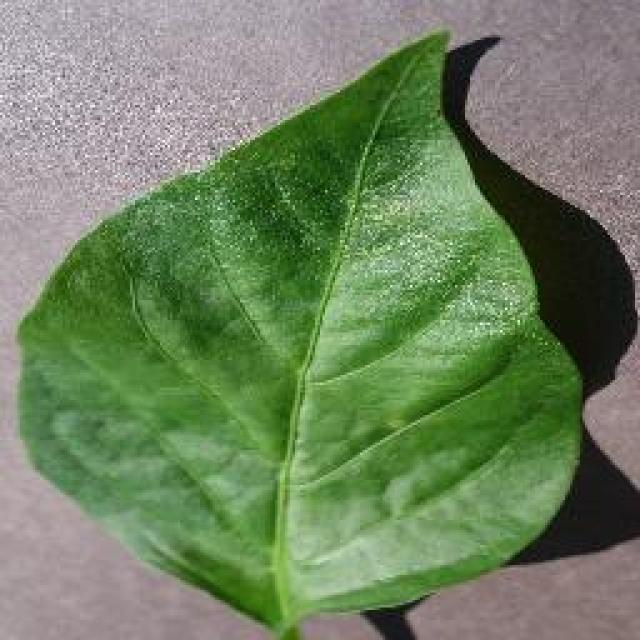Chilli_Healthy: (12, 25, 590, 637)
